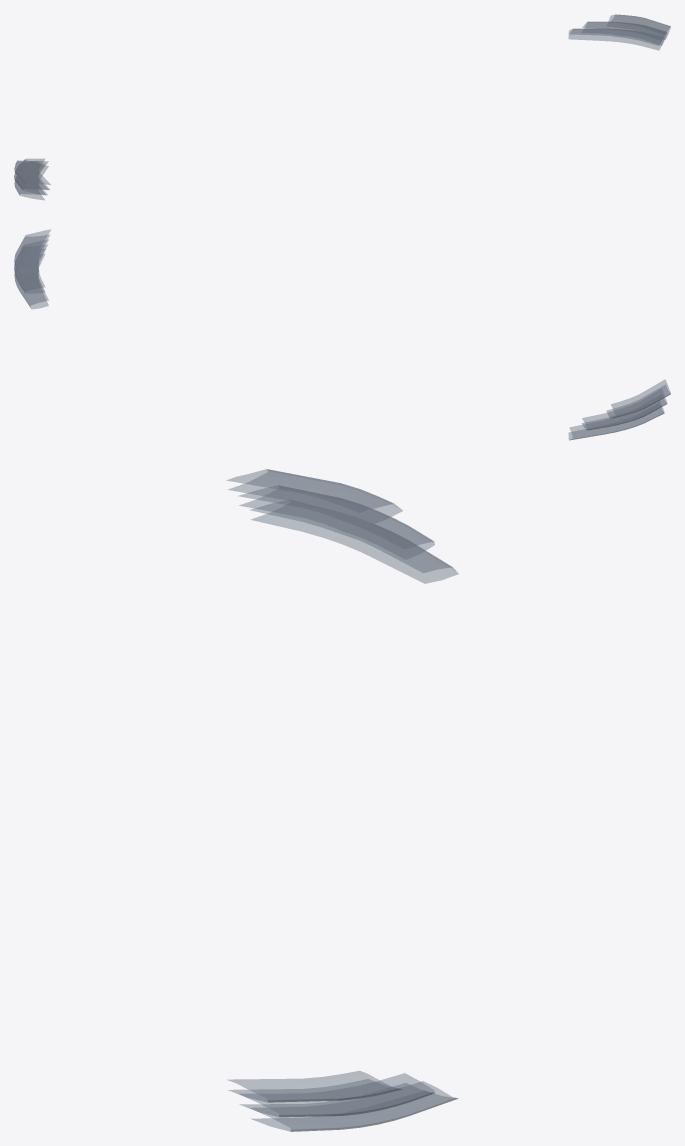
Rendered from glass_stirips.glb.
The picture shows the model from 3 angles, top to bottom: view 1: azimuth 30°, elevation 25°; view 2: azimuth 150°, elevation 25°; view 3: azimuth 270°, elevation 25°; orthographic projection. The views are drawn at different scales.
Parts seen in each view (by area): view 1: glass_stirips; view 2: glass_stirips; view 3: glass_stirips.
Part boxes in pixels (x1,y1,x2,y2): glass_stirips: (14,14,670,199); glass_stirips: (14,230,670,440); glass_stirips: (227,469,458,1131).
Bounding box in the file's own units: 1.06 × 0.0455 × 0.1655.
